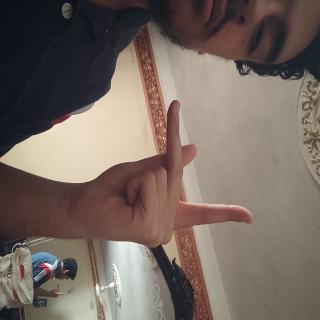DHAA: (69, 84, 192, 320)
